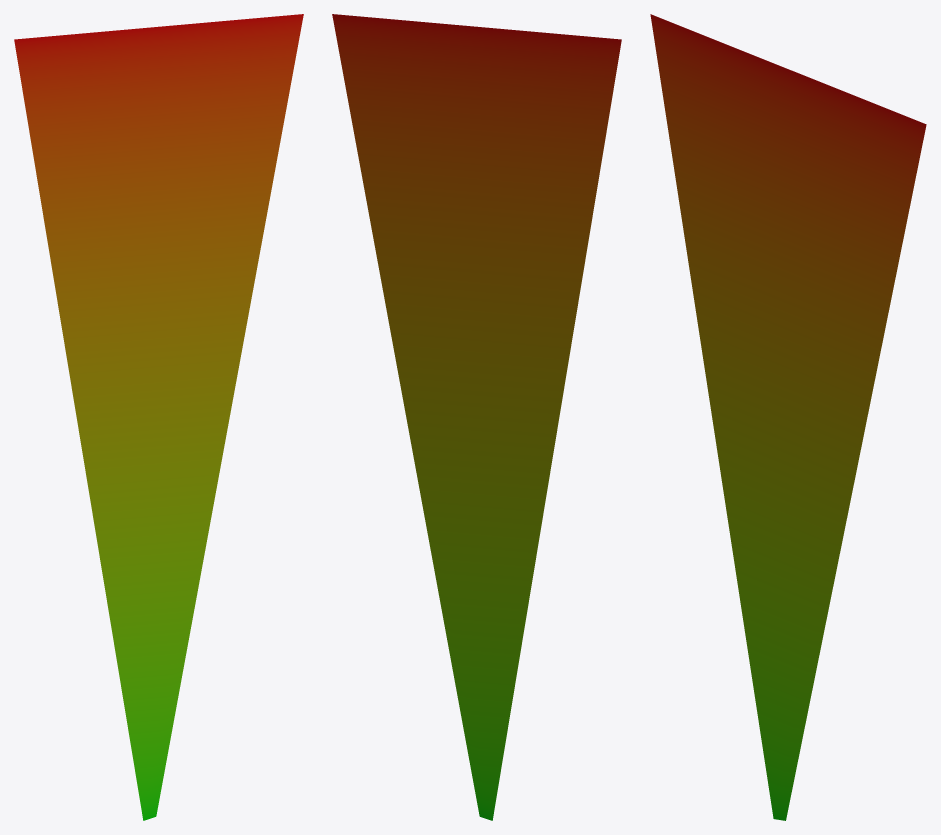
Rendered from Lily Of The Valley_LOD7_Var6_xikkdhjja.fbx.
3 views of the same model, side by side, from view 1: azimuth 30°, elevation 25°; view 2: azimuth 150°, elevation 25°; view 3: azimuth 330°, elevation 25° (orthographic). The views are drawn at different scales.
Parts seen in each view (by area): view 1: _jf9r_Var6_LOD7; view 2: _jf9r_Var6_LOD7; view 3: _jf9r_Var6_LOD7.
Boxes of the visible parts, <box> form: _jf9r_Var6_LOD7: <box>14,14,303,820</box>; _jf9r_Var6_LOD7: <box>332,14,621,820</box>; _jf9r_Var6_LOD7: <box>650,14,926,820</box>.
Bounding box in the file's own units: 12.7 × 34.06 × 0.
